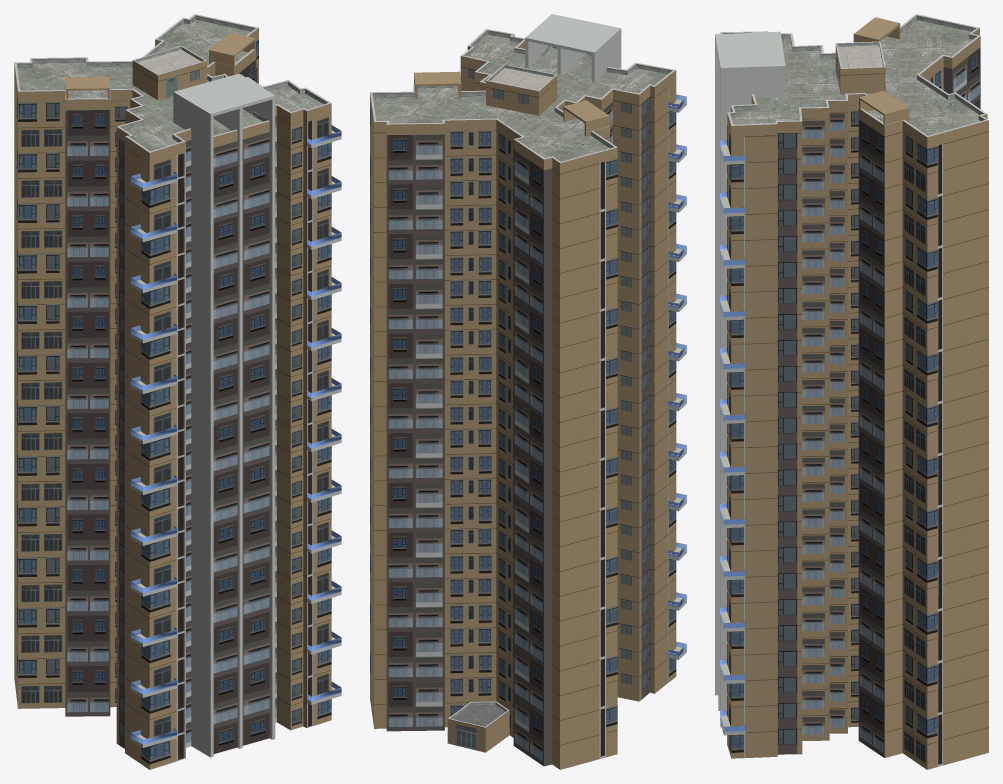
3 renders of one model, left to right at view 1: azimuth 30°, elevation 25°; view 2: azimuth 150°, elevation 25°; view 3: azimuth 270°, elevation 25°, orthographic. The views are drawn at different scales.
Parts seen in each view (by area): view 1: jz1; view 2: jz1; view 3: jz1.
Boxes of the visible parts, box(x1,y1,x2,y2) form: jz1: box(14, 14, 341, 769); jz1: box(370, 14, 686, 769); jz1: box(715, 14, 988, 769).
Size of the model in its own units: 3574 by 8916 by 3355.
Materials: 25 (25 with a texture image).
